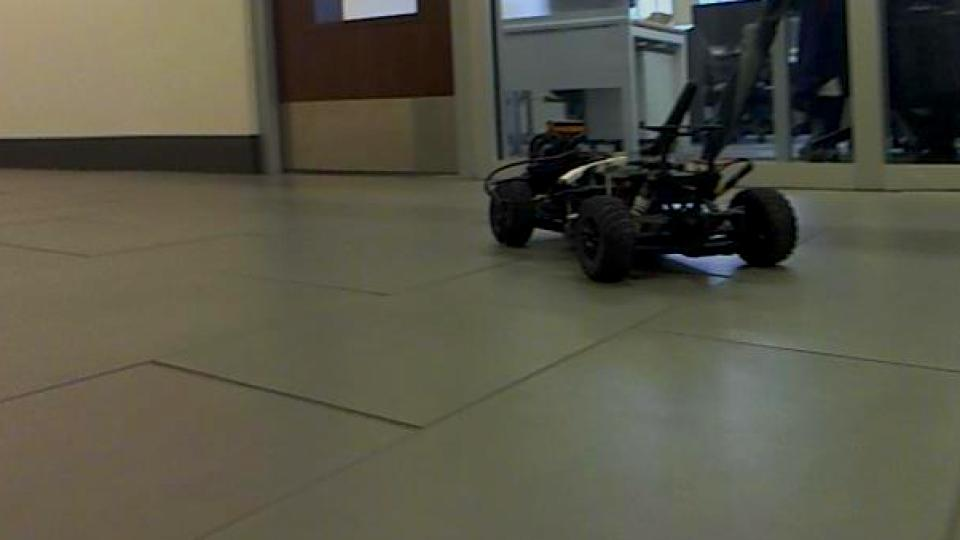car: (483, 83, 802, 282)
